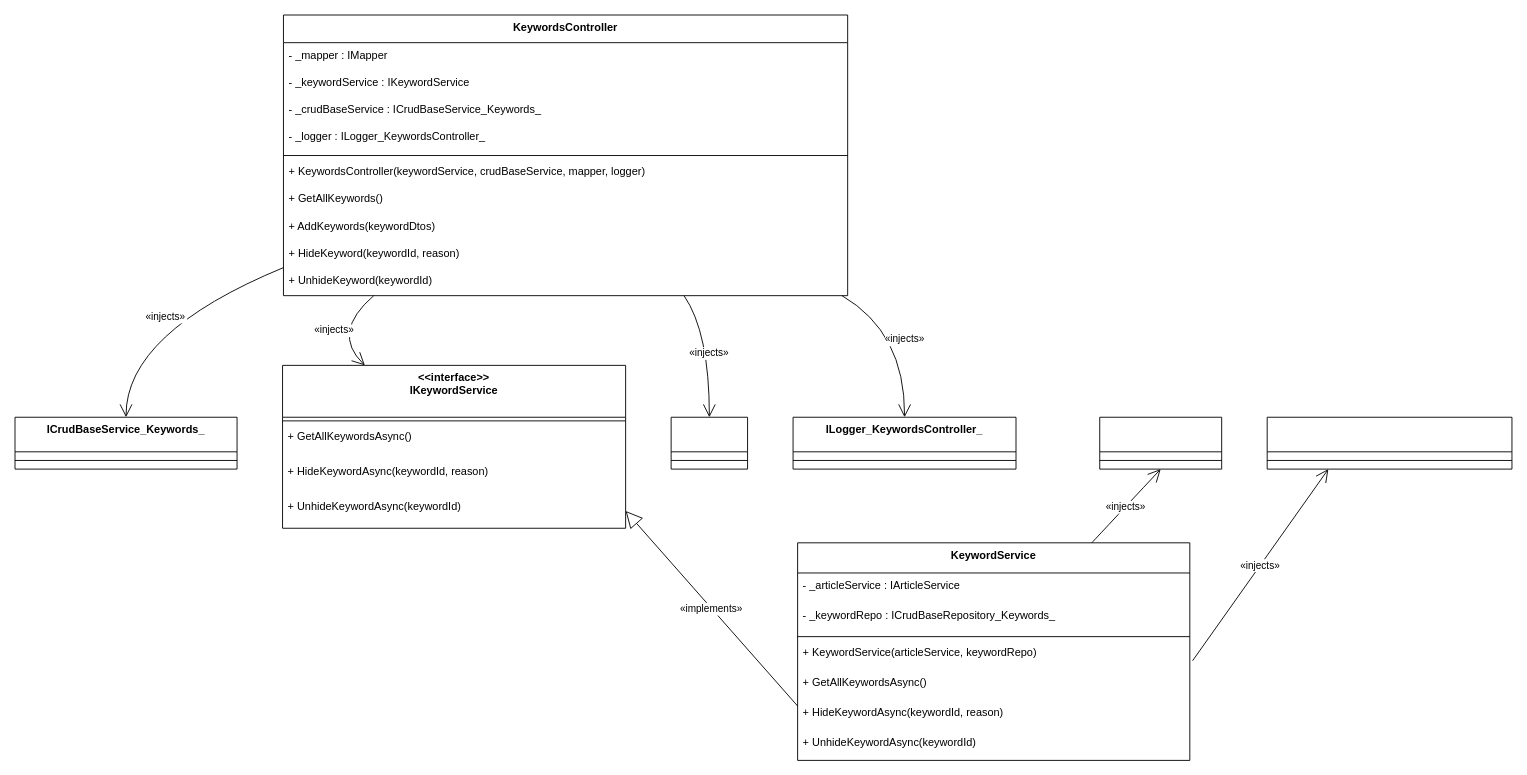
The diagram is 1527 pixels wide and 775 high, and some of its shapes have lost their labels. The shapes that lost their labels are listed below. From the top down, each one's centre as x and y in pixels, then its label:
pixel 709 442: IMapper
pixel 1160 442: IArticleService
pixel 1389 442: ICrudBaseRepository_Keywords_
